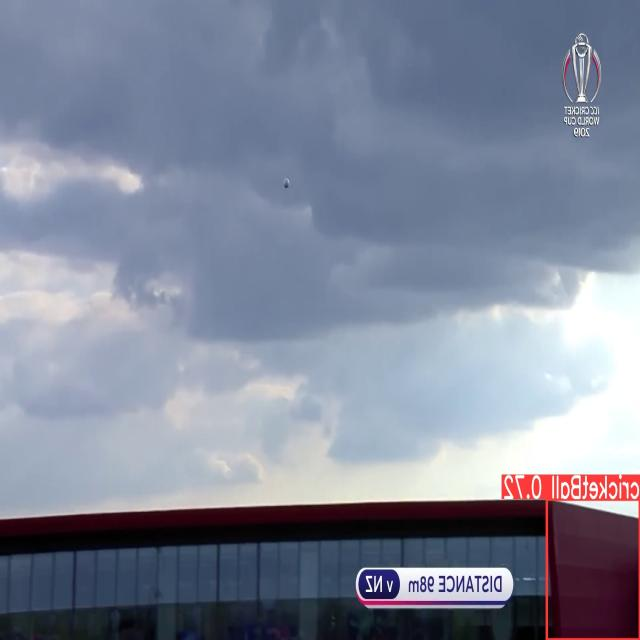ball: (283, 175, 290, 187)
